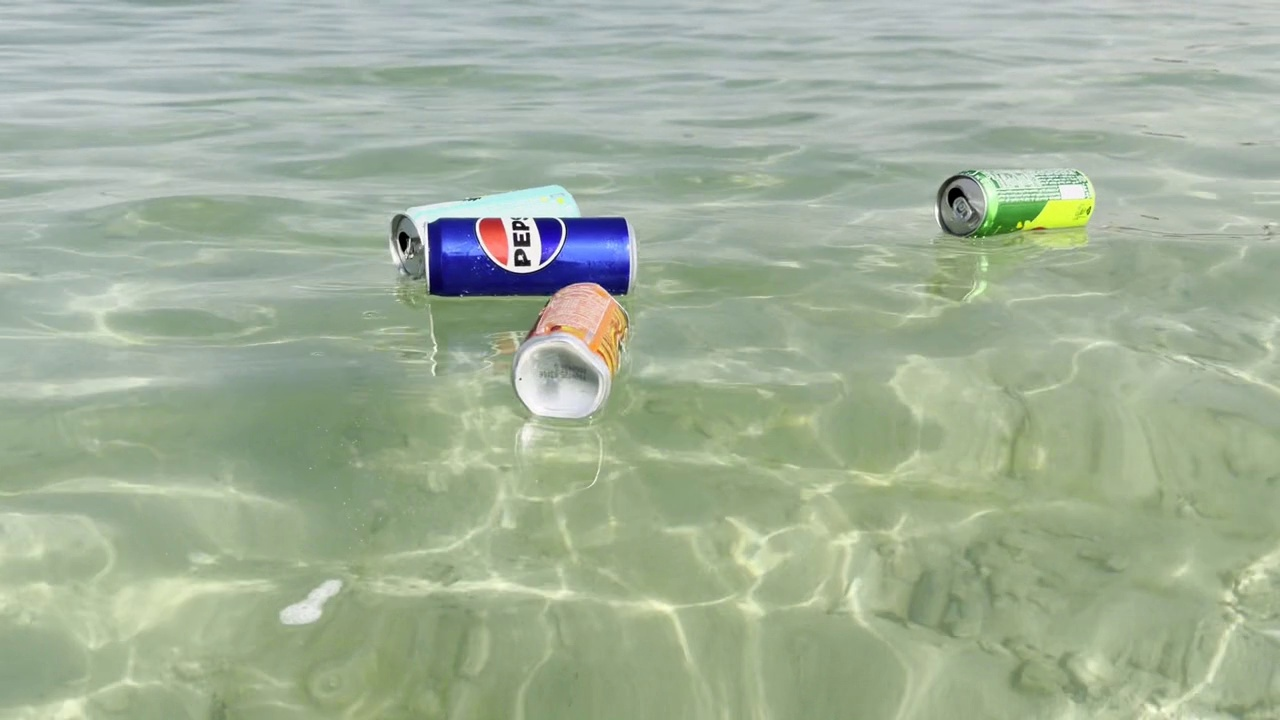debris: (381, 171, 595, 279), (420, 207, 650, 306), (503, 274, 629, 436), (927, 158, 1098, 238)
